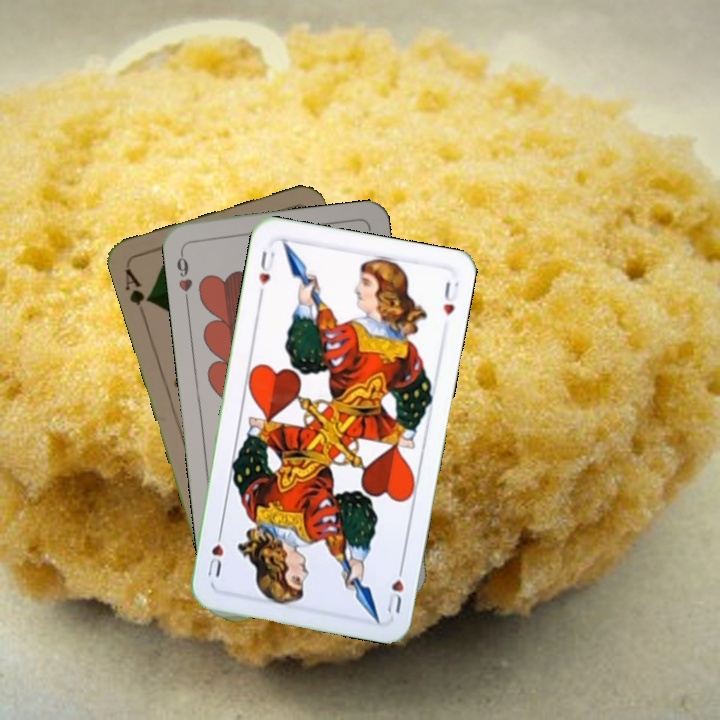GA: (121, 264, 155, 308)
H9: (172, 246, 195, 305)
HU: (383, 559, 407, 616), (255, 247, 278, 300)
